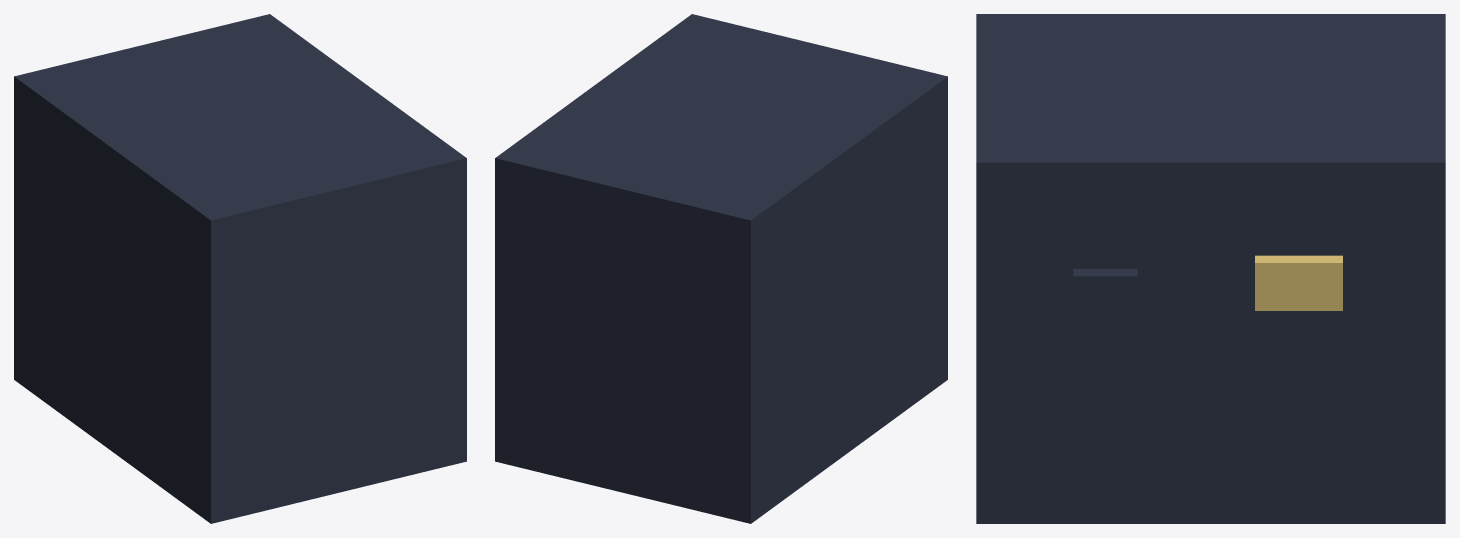
File: SM_Vest_Police.fbx
3 renders of one model, left to right at view 1: azimuth 30°, elevation 25°; view 2: azimuth 150°, elevation 25°; view 3: azimuth 270°, elevation 25°, orthographic. The views are drawn at different scales.
Visible parts, largest first — view 1: SM_Vest_Police; view 2: SM_Vest_Police; view 3: SM_Vest_Police.
Part boxes in pixels (left/top/right/bottom): SM_Vest_Police: left=14, top=14, right=466, bottom=523; SM_Vest_Police: left=495, top=14, right=947, bottom=523; SM_Vest_Police: left=976, top=14, right=1445, bottom=523.
Bounding box in the file's own units: 31.5 × 40 × 34.
